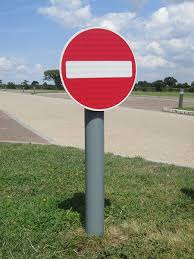No_entry: (59, 26, 138, 112)
